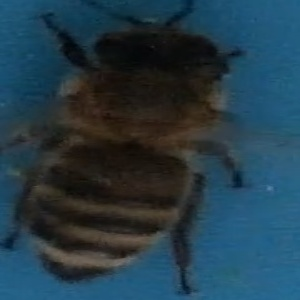bee: (15, 1, 270, 296)
